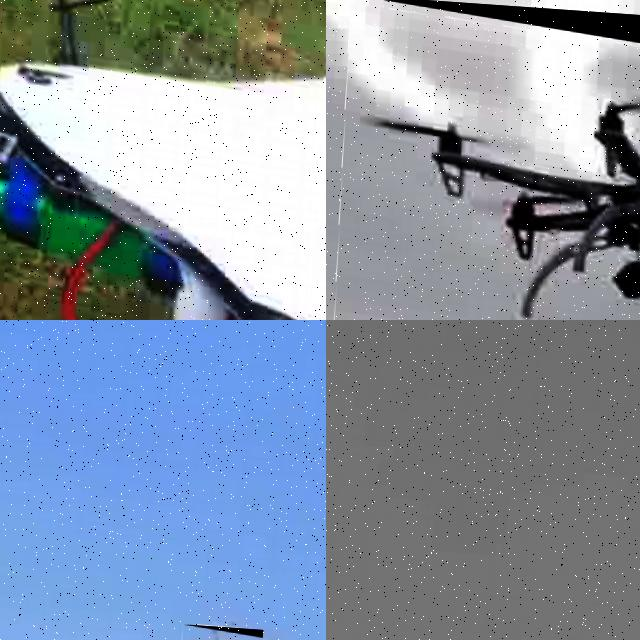0: (0, 0, 326, 320), (328, 0, 640, 320)
drone: (178, 623, 263, 640)
